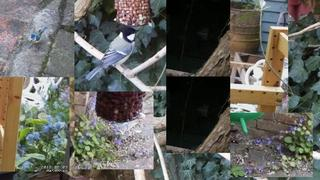blue tit: (28, 27, 48, 52)
great tit: (85, 27, 140, 81)
